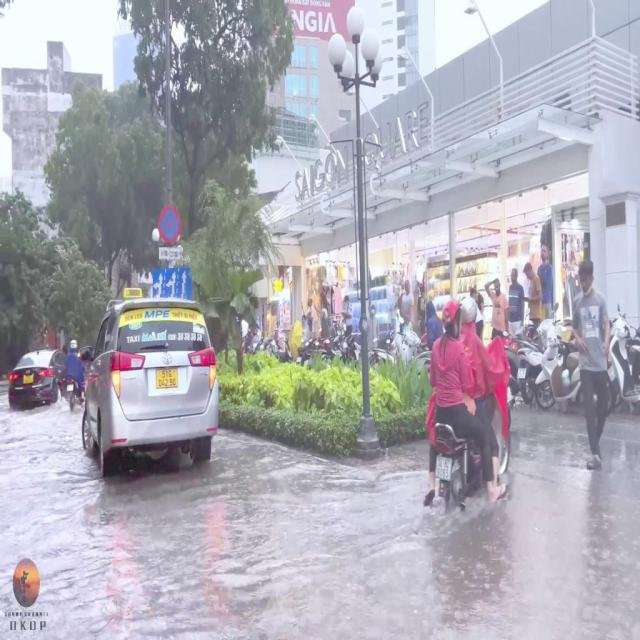cam_dung_xe_va_do_xe: (158, 205, 182, 245)
huong_di_tren_moi_lan_duong_theo_vach_ke_duong: (153, 268, 191, 300)
khac: (160, 248, 182, 262)
